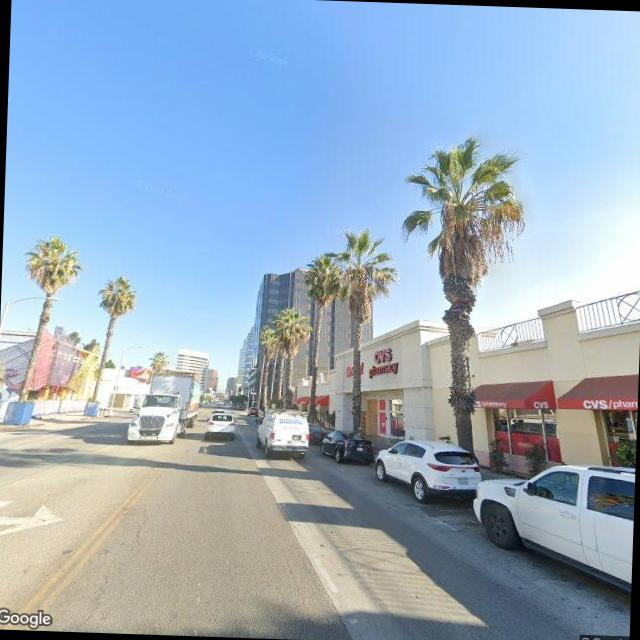pothole: (63, 502, 152, 632)
